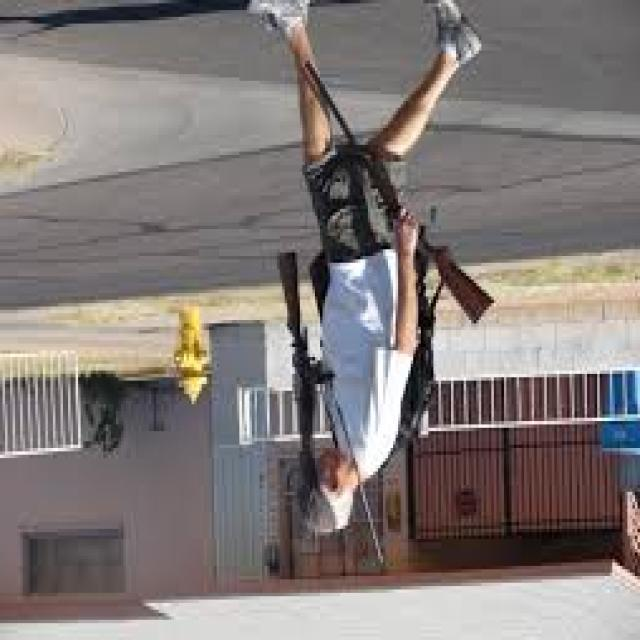gun: (293, 52, 497, 330), (268, 215, 322, 548)
